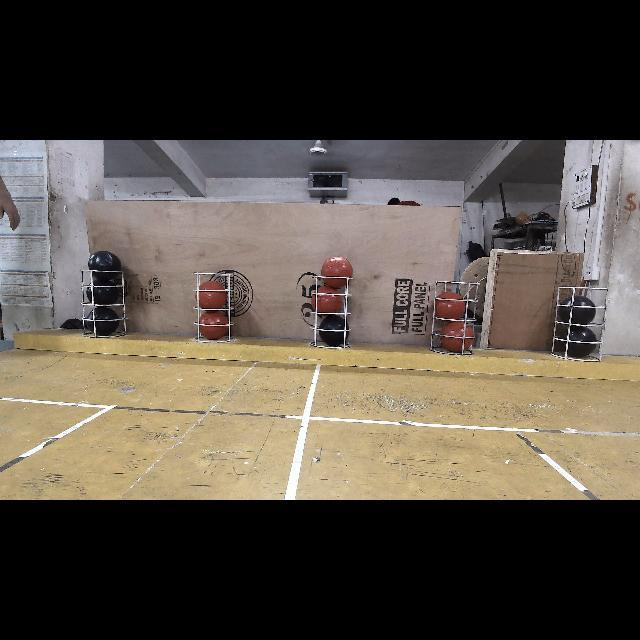P: (560, 326, 596, 356), (88, 251, 121, 280), (560, 296, 594, 324), (86, 308, 118, 336), (319, 317, 349, 345), (88, 281, 119, 305)
R: (321, 256, 352, 289), (444, 320, 474, 352), (434, 294, 466, 320), (198, 282, 230, 308), (316, 288, 346, 314), (200, 312, 230, 338)
S: (554, 286, 610, 364), (432, 280, 482, 358), (308, 274, 358, 350), (79, 268, 129, 338), (192, 269, 238, 345)
